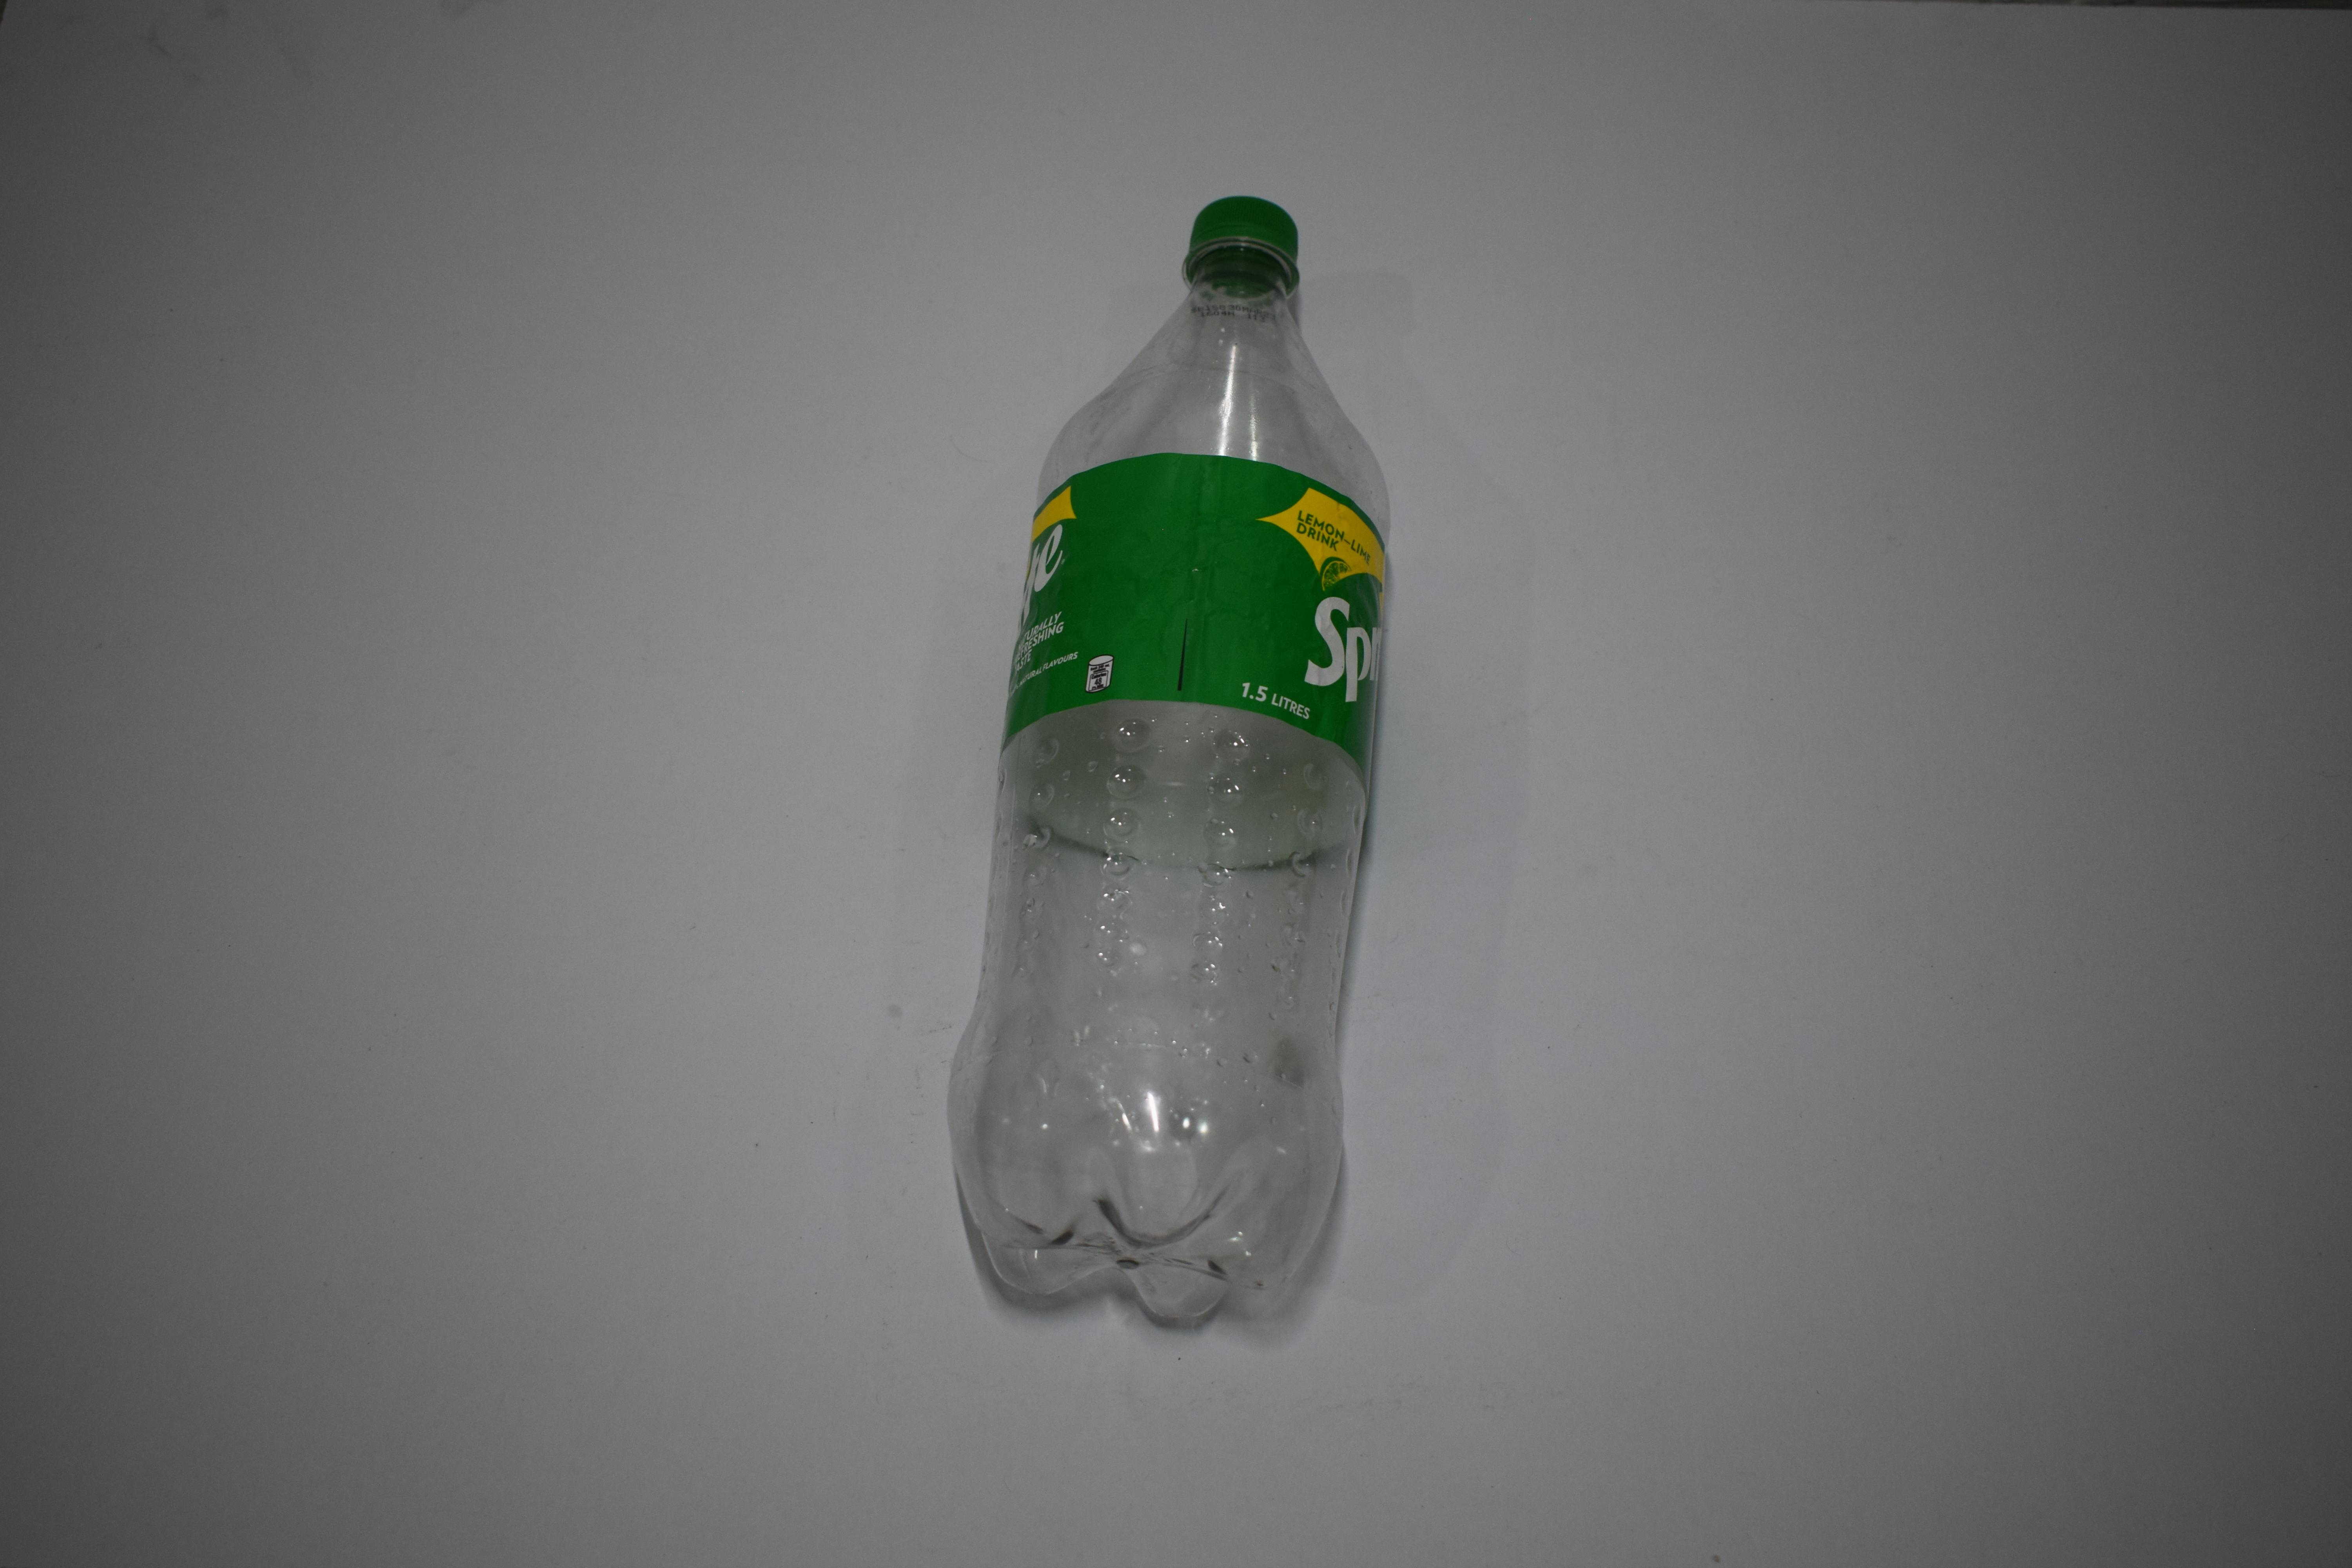bottle: (945, 184, 1393, 1347)
